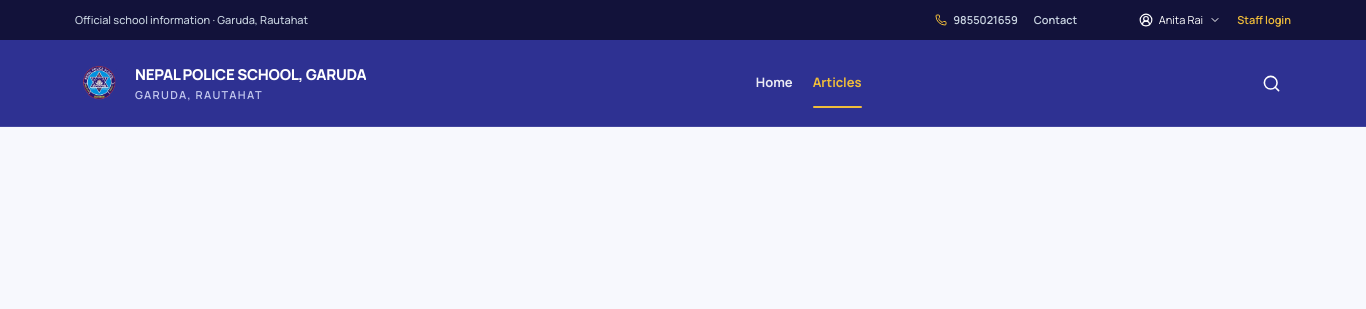
it: site header student account › replaces Student login with the student's name and exposes profile and article actions
Click the button "Anita Rai" at (1180, 20), box [1139,12,1221,28]
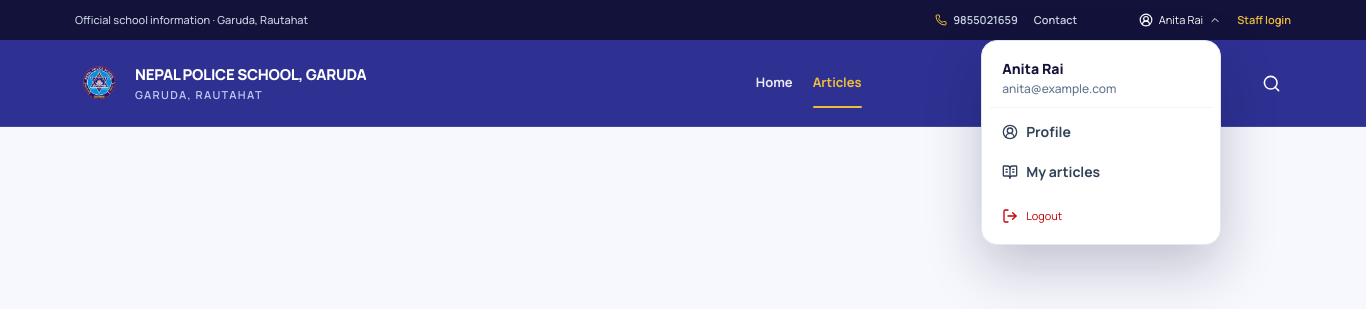
Result: the button "Anita Rai" is expanded at [1139,12,1221,28]
Result: the button "Logout" is shown at [990,196,1212,236]
